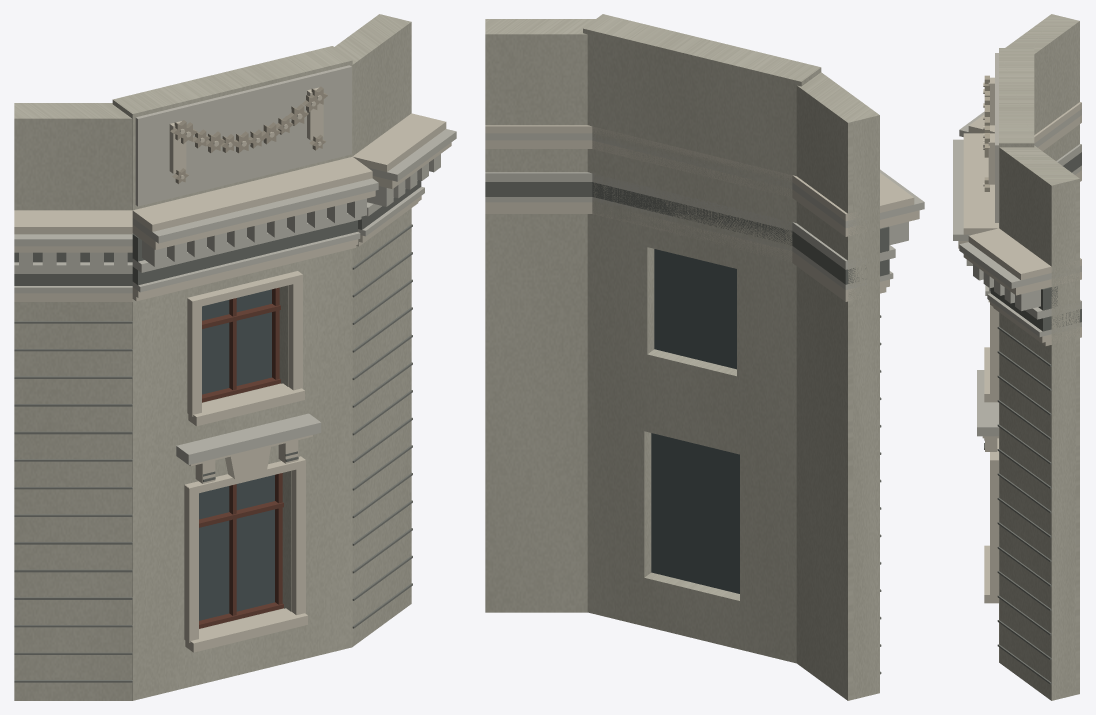
The model's file is huangpu-ezra-building-corner-dentil-cornice-lod.glb.
3 views of the same model, side by side, from view 1: azimuth 30°, elevation 25°; view 2: azimuth 150°, elevation 25°; view 3: azimuth 270°, elevation 25° (orthographic). The views are drawn at different scales.
Parts seen in each view (by area): view 1: 新康大楼街角双层石窗与齿饰檐口; view 2: 新康大楼街角双层石窗与齿饰檐口; view 3: 新康大楼街角双层石窗与齿饰檐口.
Boxes of the visible parts, x1,y1,x2,y2 form: 新康大楼街角双层石窗与齿饰檐口: (14,14,456,700); 新康大楼街角双层石窗与齿饰檐口: (485,14,924,700); 新康大楼街角双层石窗与齿饰檐口: (953,14,1081,700).
Bounding box in the file's own units: 5.87 × 7.44 × 1.67.
9 materials, 1 textured.
